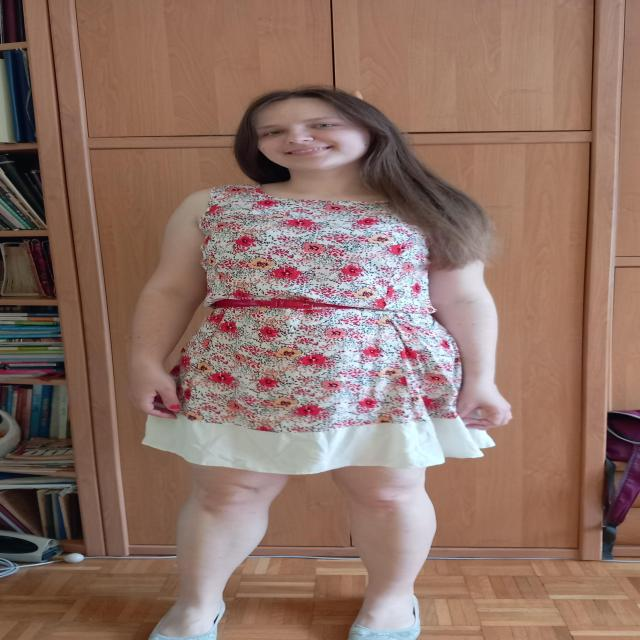dress: (139, 183, 497, 476)
